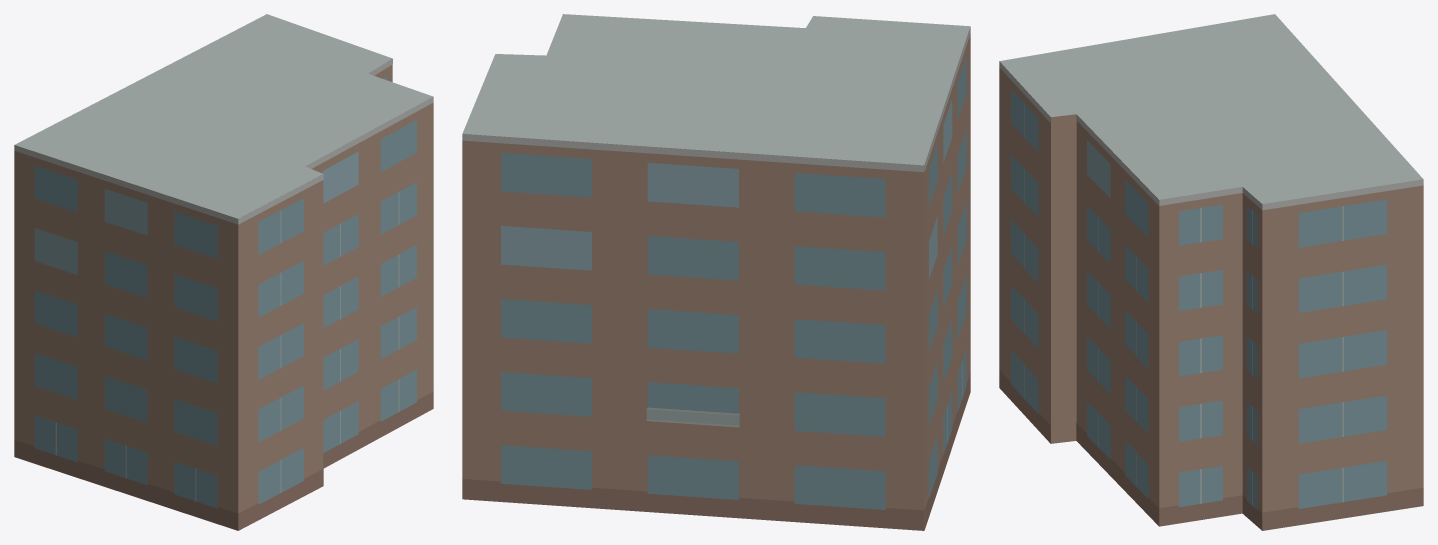
File: survey-upis-32931599.glb
3 views of the same model, side by side, from view 1: azimuth 30°, elevation 25°; view 2: azimuth 150°, elevation 25°; view 3: azimuth 270°, elevation 25° (orthographic). The views are drawn at different scales.
Visible parts, largest first — view 1: survey-upis-32931599.tmp; view 2: survey-upis-32931599.tmp; view 3: survey-upis-32931599.tmp.
Part boxes in pixels (x1,y1,x2,y2): survey-upis-32931599.tmp: (14,14,433,530); survey-upis-32931599.tmp: (462,14,970,530); survey-upis-32931599.tmp: (999,14,1423,530).
Bounding box in the file's own units: 16.37 × 13.1 × 15.43.
